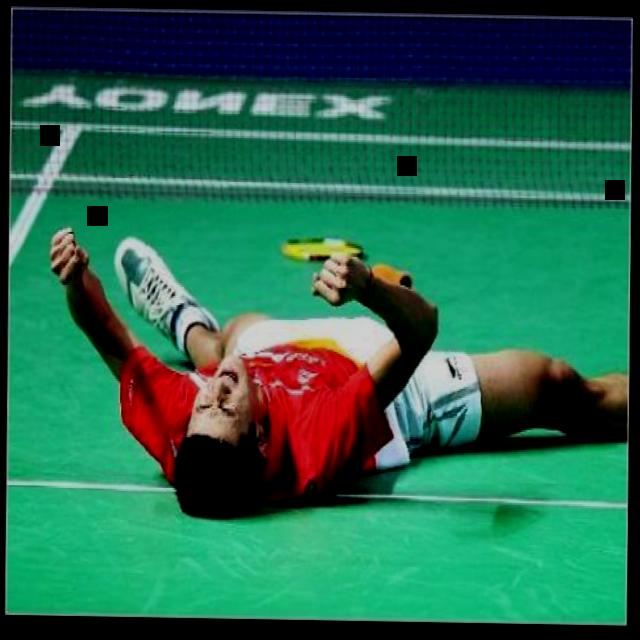Fall-Detected: (30, 196, 631, 519)
